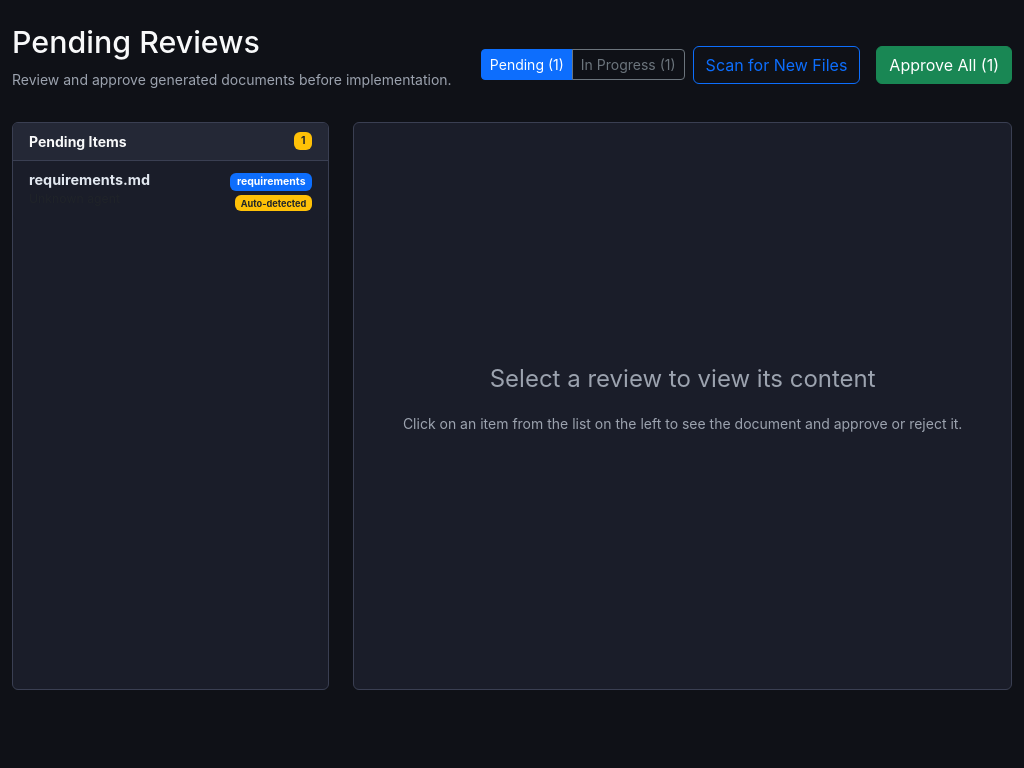
PendingReviewDashboard › Review Selection › shows content when a review is selected
The width and height of the screenshot is (1024, 768).
Note: Click on the review item
Click the text "requirements.md" at [90, 179], box [29, 168, 150, 190]
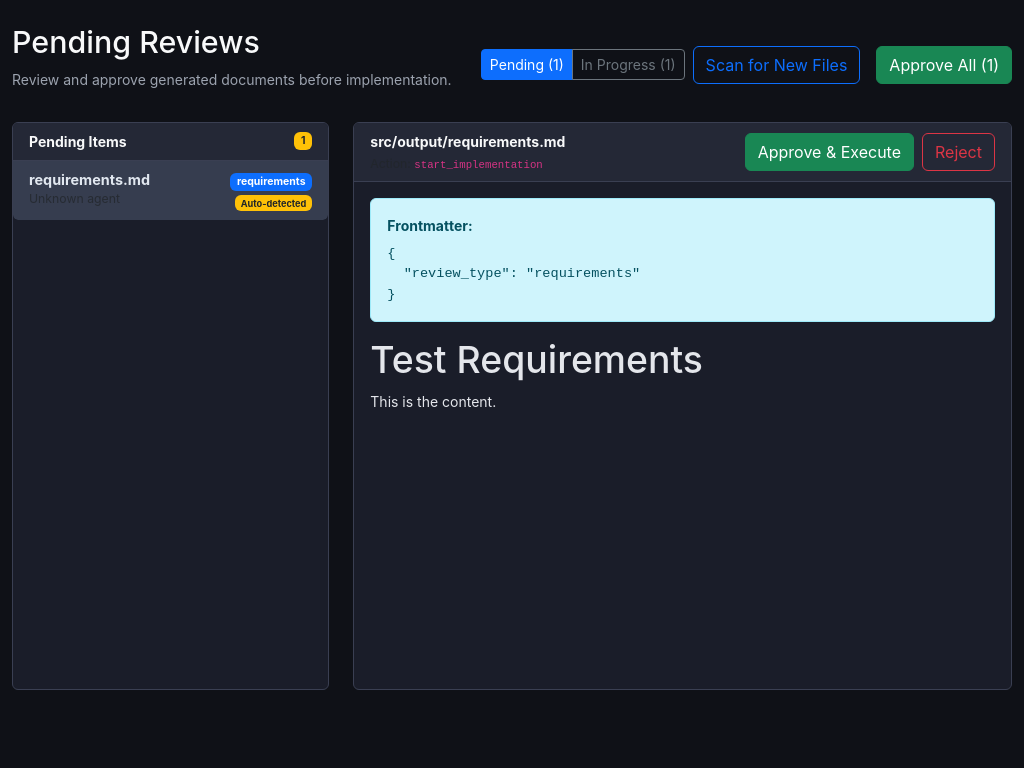
Check: the heading "Test Requirements" is shown, box [370, 337, 703, 382]
